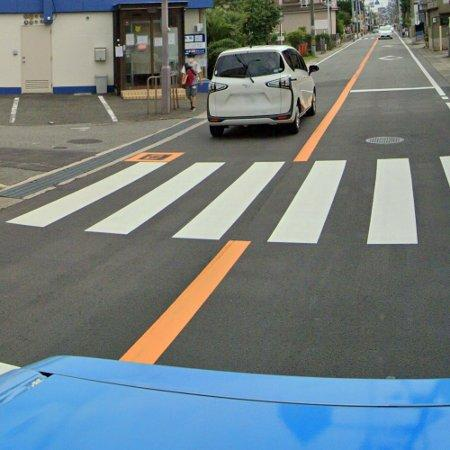crosswalks: (8, 158, 420, 245)
